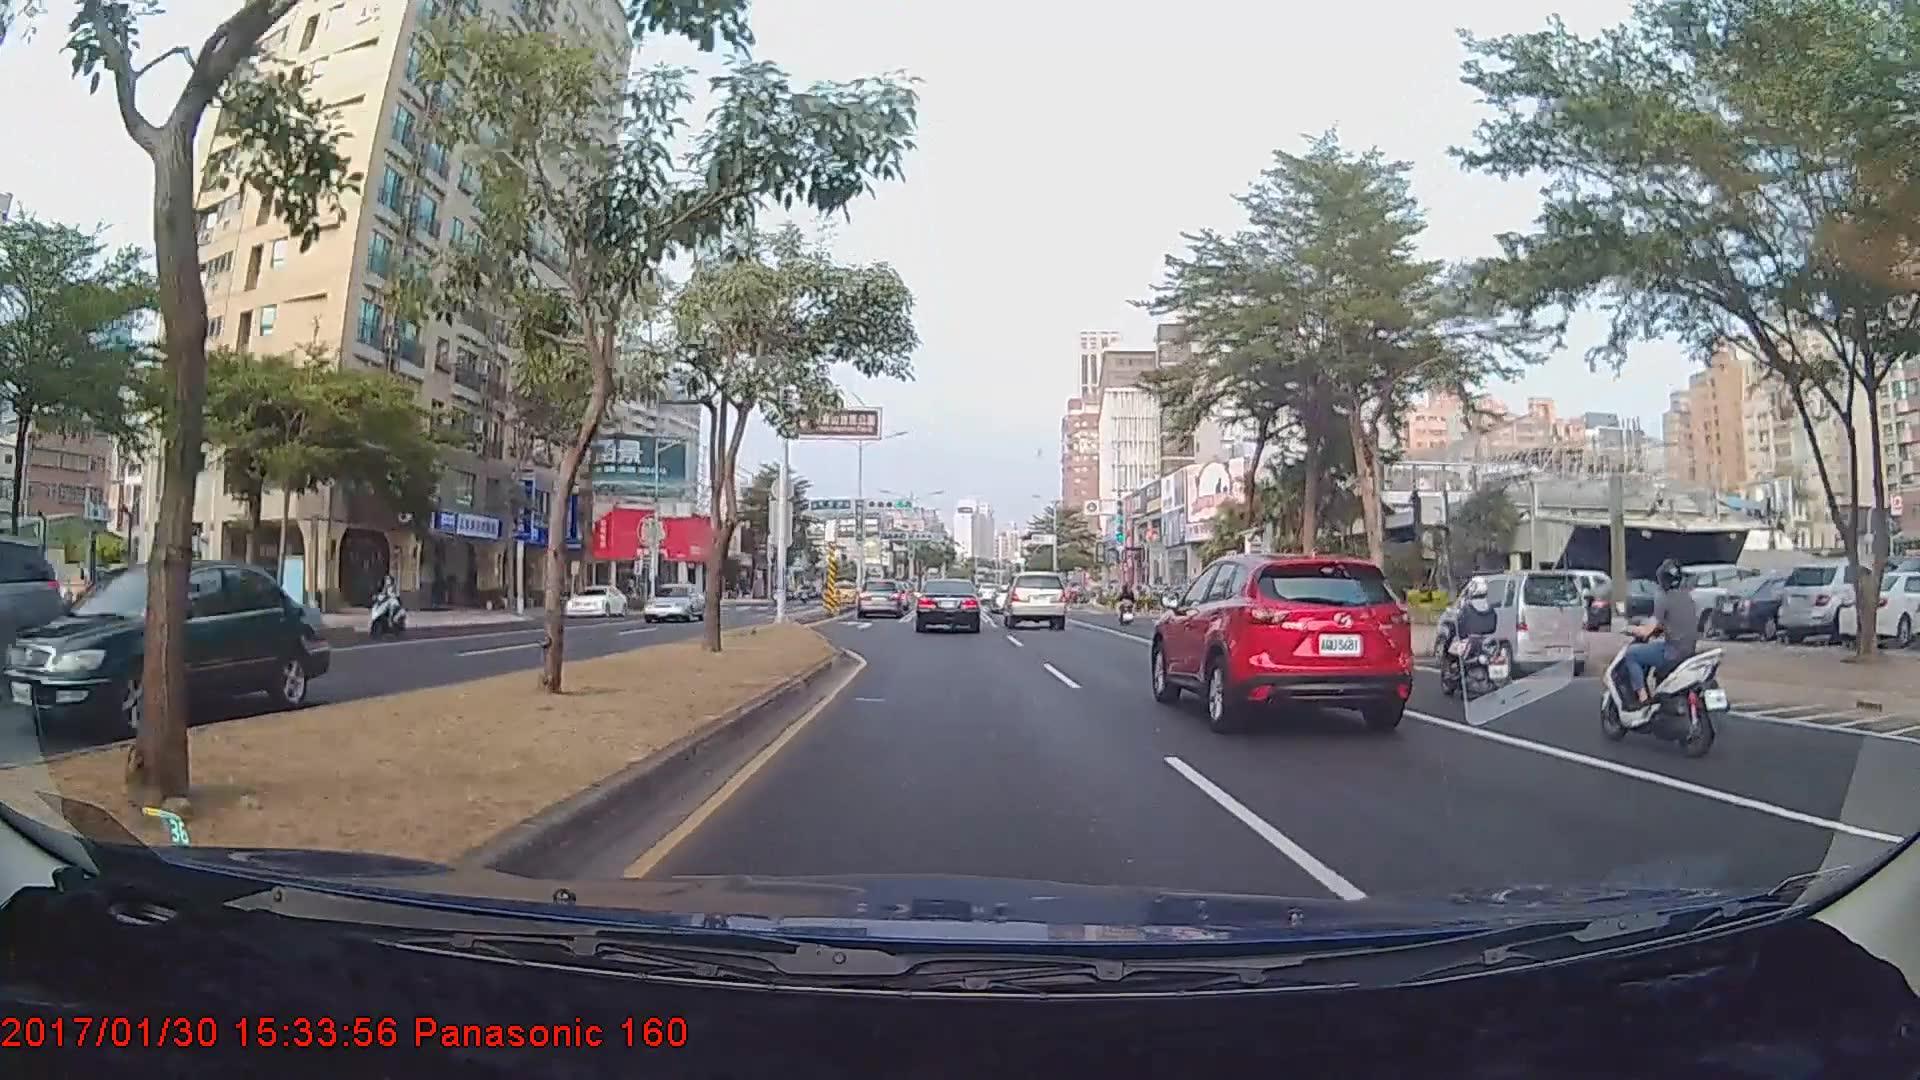rider: (1591, 555, 1735, 756), (1430, 572, 1527, 712), (367, 571, 411, 638), (1119, 588, 1141, 631)
vehicle: (0, 557, 327, 737), (1152, 546, 1413, 727), (1432, 568, 1590, 678), (0, 538, 63, 709), (1651, 564, 1778, 636), (1002, 569, 1067, 630), (914, 577, 982, 633), (641, 583, 707, 622), (856, 576, 908, 620), (564, 582, 627, 616)
